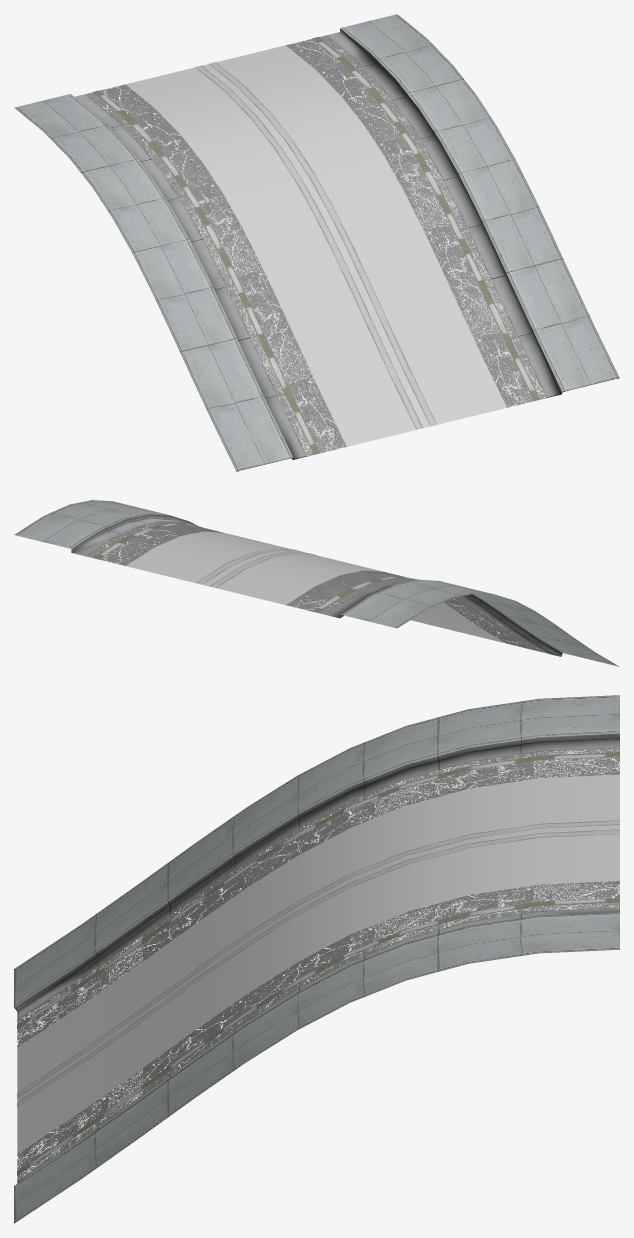
The model's file is Road_Slope.obj.
The picture shows the model from 3 angles, top to bottom: view 1: azimuth 30°, elevation 25°; view 2: azimuth 150°, elevation 25°; view 3: azimuth 270°, elevation 25°; orthographic projection. The views are drawn at different scales.
Visible parts, largest first — view 1: Road-Angled.001; view 2: Road-Angled.001; view 3: Road-Angled.001.
Part boxes in pixels (x1,y1,x2,y2): Road-Angled.001: [14, 14, 619, 471]; Road-Angled.001: [14, 500, 619, 666]; Road-Angled.001: [14, 695, 619, 1223].
Bounding box in the file's own units: 20 × 10.19 × 20.11.
